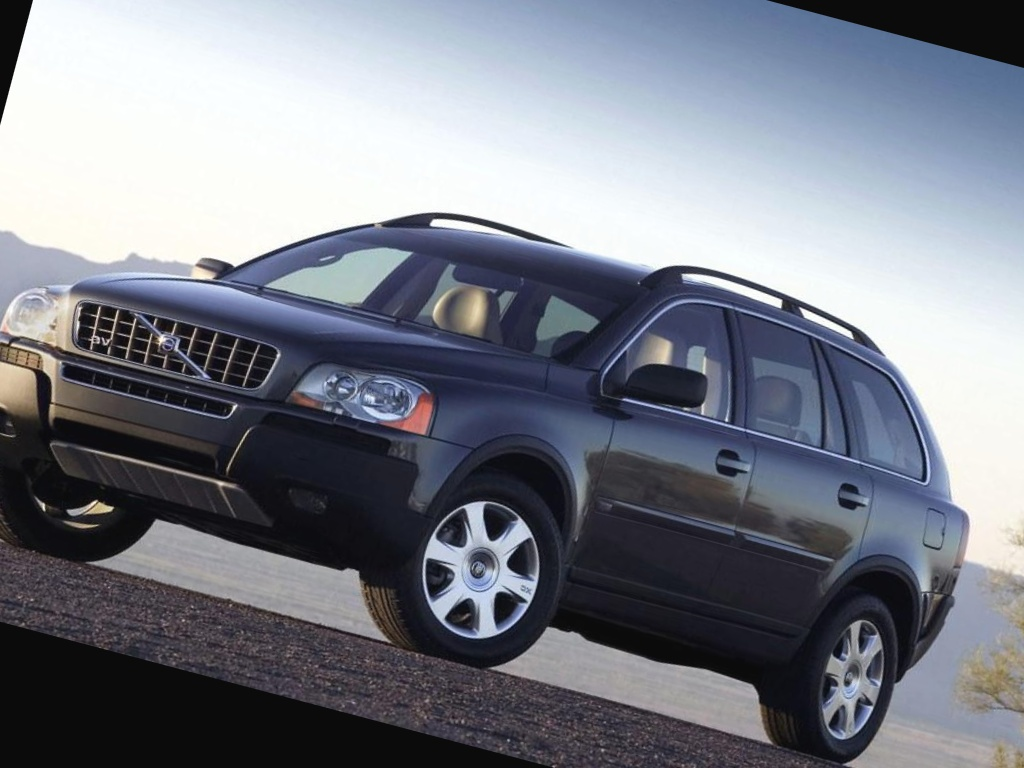car: (0, 29, 1024, 768)
